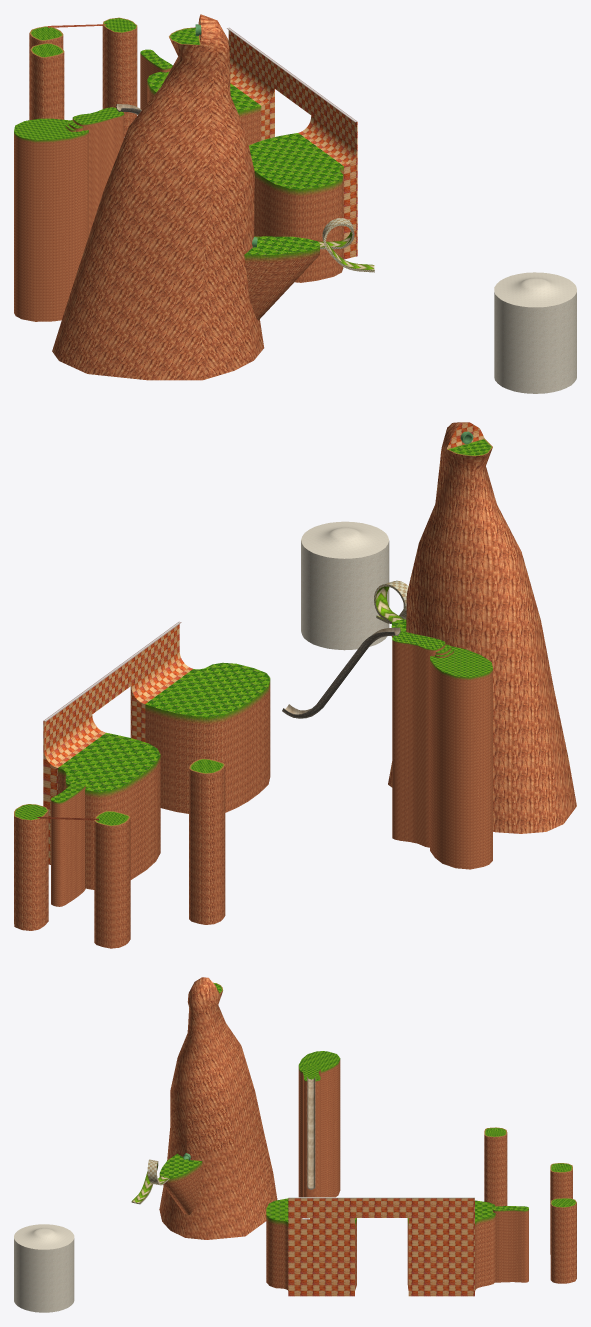
File: Tutorial11.obj
The picture shows the model from 3 angles, top to bottom: view 1: azimuth 30°, elevation 25°; view 2: azimuth 150°, elevation 25°; view 3: azimuth 270°, elevation 25°; orthographic projection. The views are drawn at different scales.
Bounding box in the file's own units: 6526 × 5547 × 11570.
Materials: 12 (12 with a texture image).
